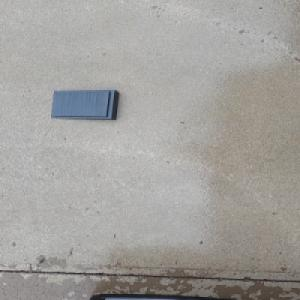PlasticPart: (49, 88, 120, 121)
